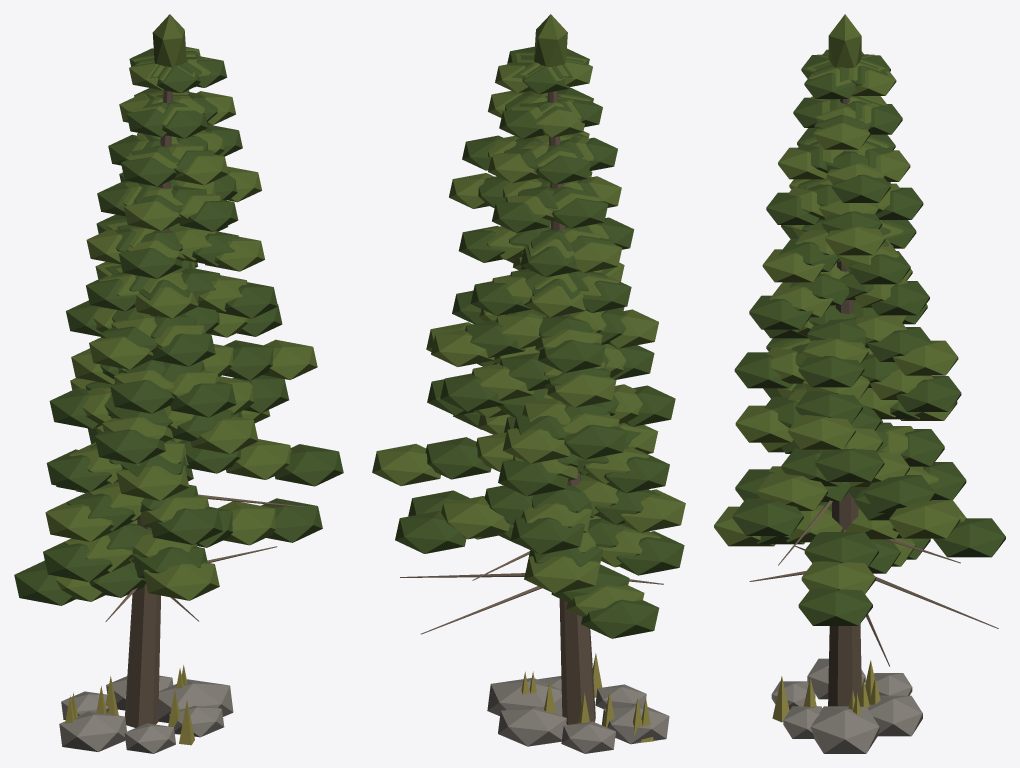
3 views of the same model, side by side, from view 1: azimuth 30°, elevation 25°; view 2: azimuth 150°, elevation 25°; view 3: azimuth 270°, elevation 25° (orthographic).
Parts seen in each view (by area): view 1: Spruce; view 2: Spruce; view 3: Spruce.
Part boxes in pixels (x1,y1,x2,y2): Spruce: (14, 14, 343, 753); Spruce: (372, 14, 685, 753); Spruce: (714, 14, 1005, 753).
Bounding box in the file's own units: 2.34 × 5.9 × 2.15.
